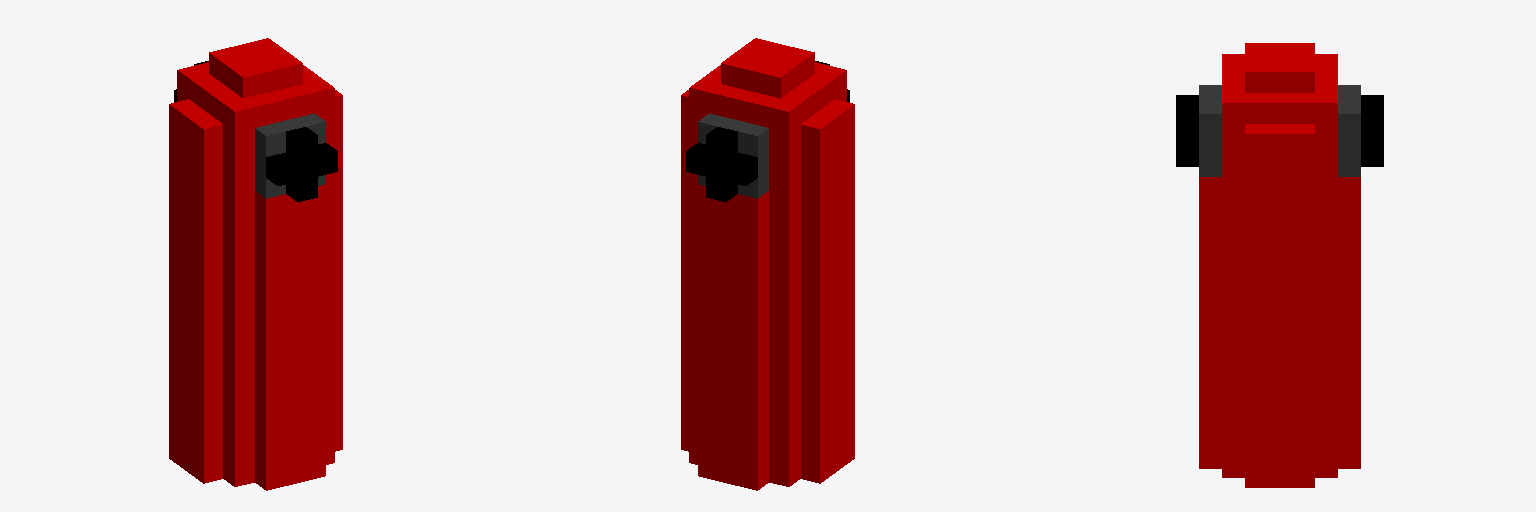
The picture shows the model from 3 angles: view 1: azimuth 30°, elevation 25°; view 2: azimuth 150°, elevation 25°; view 3: azimuth 270°, elevation 25°; orthographic projection.
Parts seen in each view (by area): view 1: object 1; view 2: object 1; view 3: object 1.
Part boxes in pixels (left/top/right/bottom): object 1: left=169, top=38, right=342, bottom=490; object 1: left=681, top=38, right=854, bottom=490; object 1: left=1176, top=43, right=1383, bottom=487.
Bounding box in the file's own units: 0.7 × 1.9 × 0.9.
Materials: 1 (1 with a texture image).